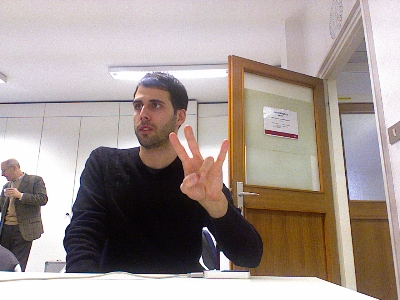观音: (166, 123, 230, 204)
